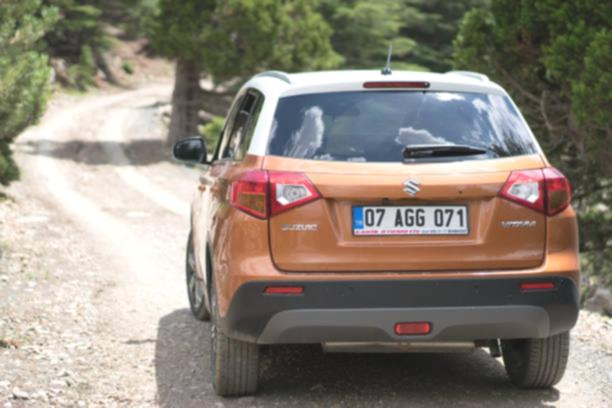suzuki: (398, 173, 429, 202)
